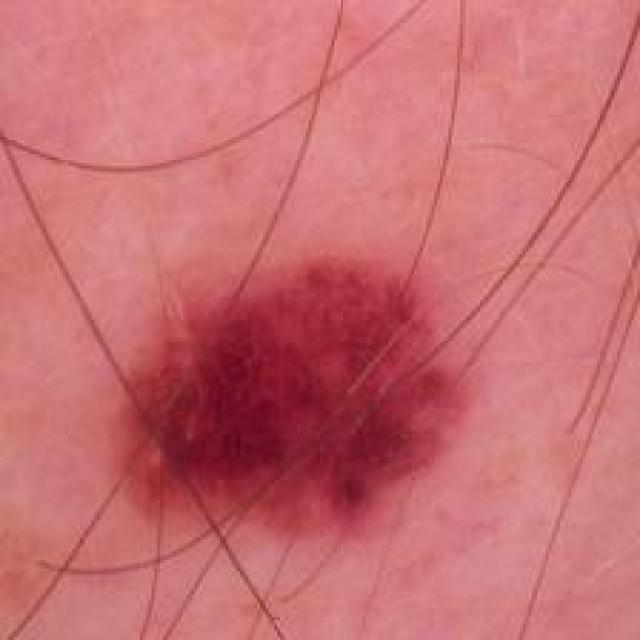Cancer: (103, 254, 468, 550)
